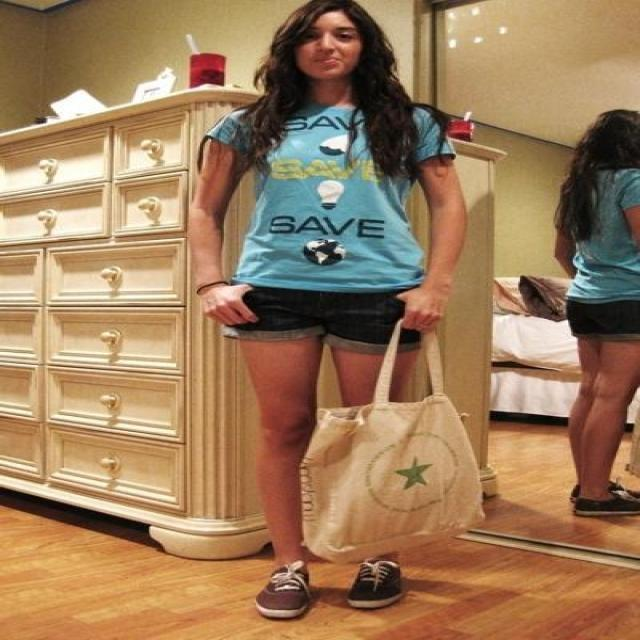bag: (301, 388, 491, 572)
shirt: (202, 102, 468, 292)
shoe: (256, 566, 400, 621)
shorts: (242, 284, 420, 352)
